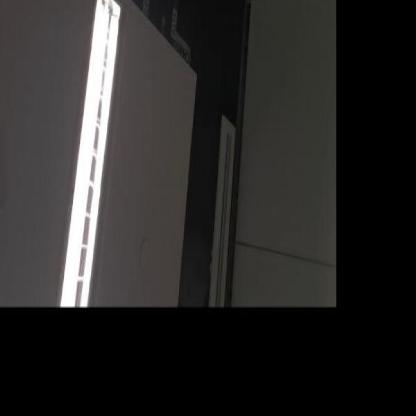light_on: (49, 0, 130, 307)
